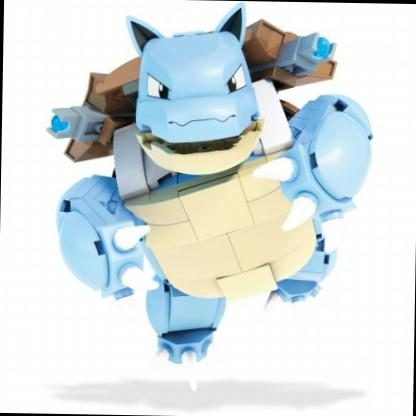Blastoise: (1, 1, 416, 366)
